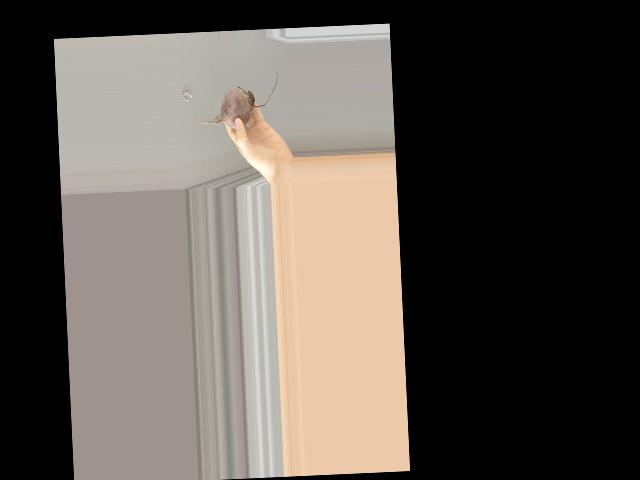beet: (187, 70, 280, 130)
